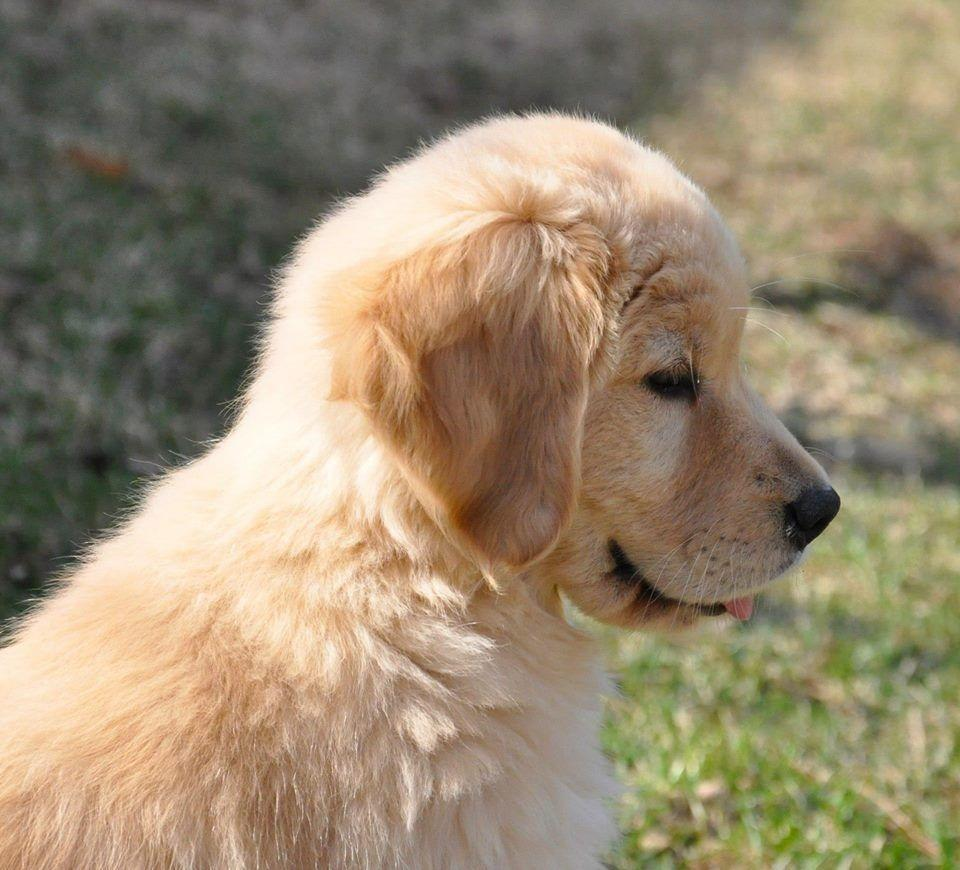puppy-dog: (1, 107, 848, 870)
